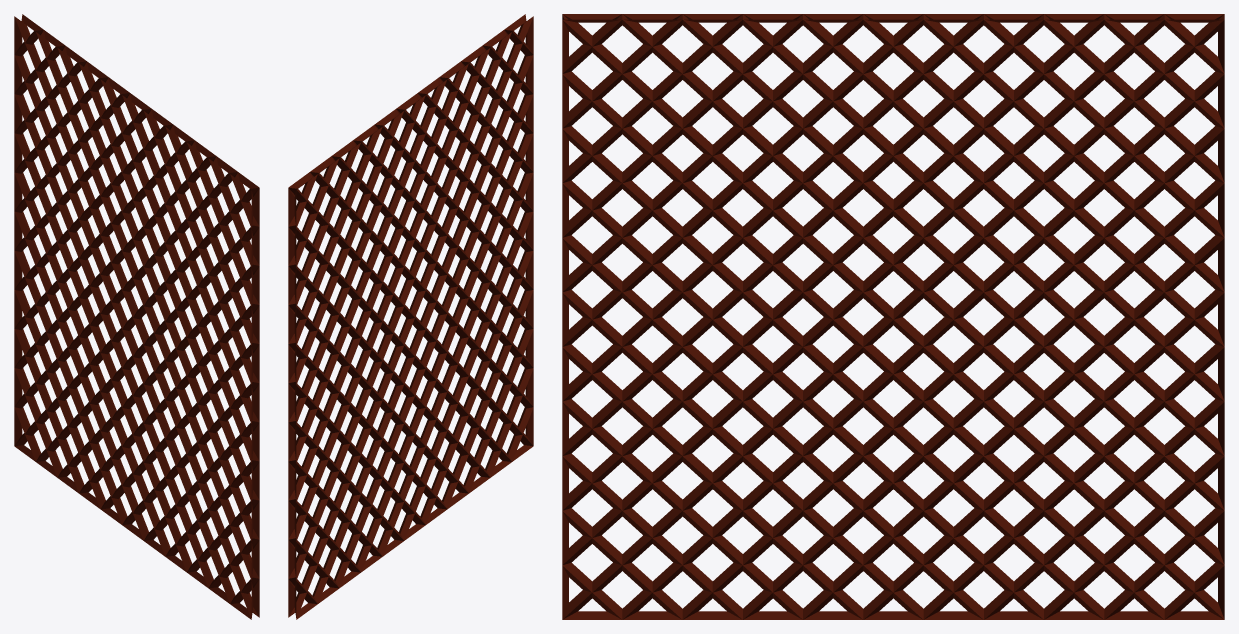
File: Fence.fbx
3 views of the same model, side by side, from view 1: azimuth 30°, elevation 25°; view 2: azimuth 150°, elevation 25°; view 3: azimuth 270°, elevation 25° (orthographic). The views are drawn at different scales.
Visible parts, largest first — view 1: Plane; view 2: Plane; view 3: Plane.
Part boxes in pixels (x1,y1,x2,y2): Plane: [14, 14, 259, 619]; Plane: [288, 14, 533, 619]; Plane: [562, 14, 1224, 619].
Bounding box in the file's own units: 4 × 200 × 200.
